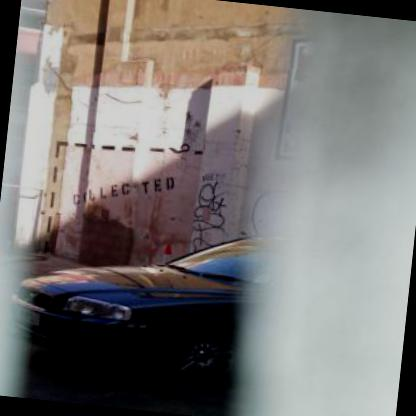car: (0, 216, 273, 398)
